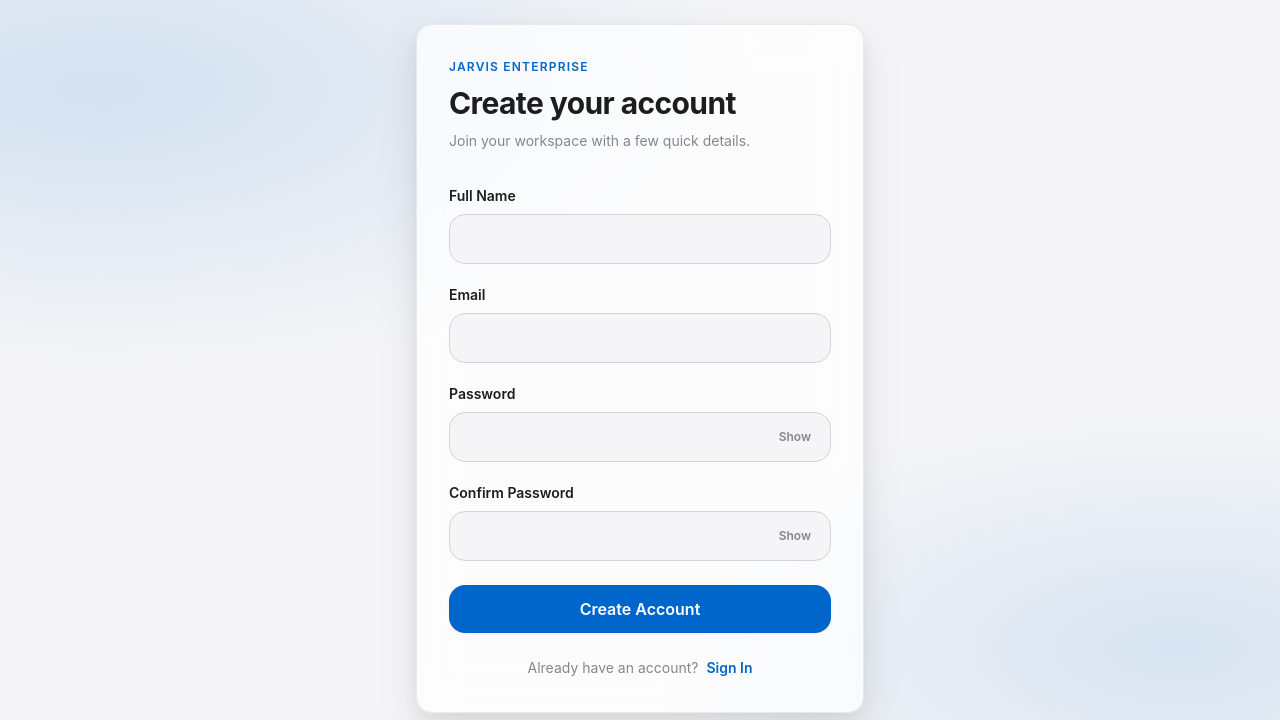
Test: SignupComponent › shows a validation message when the password is too short
Type "Jane Doe" into the field with id "fullName".
click(640, 239); type("Jane Doe")  # box [449,214,831,264]
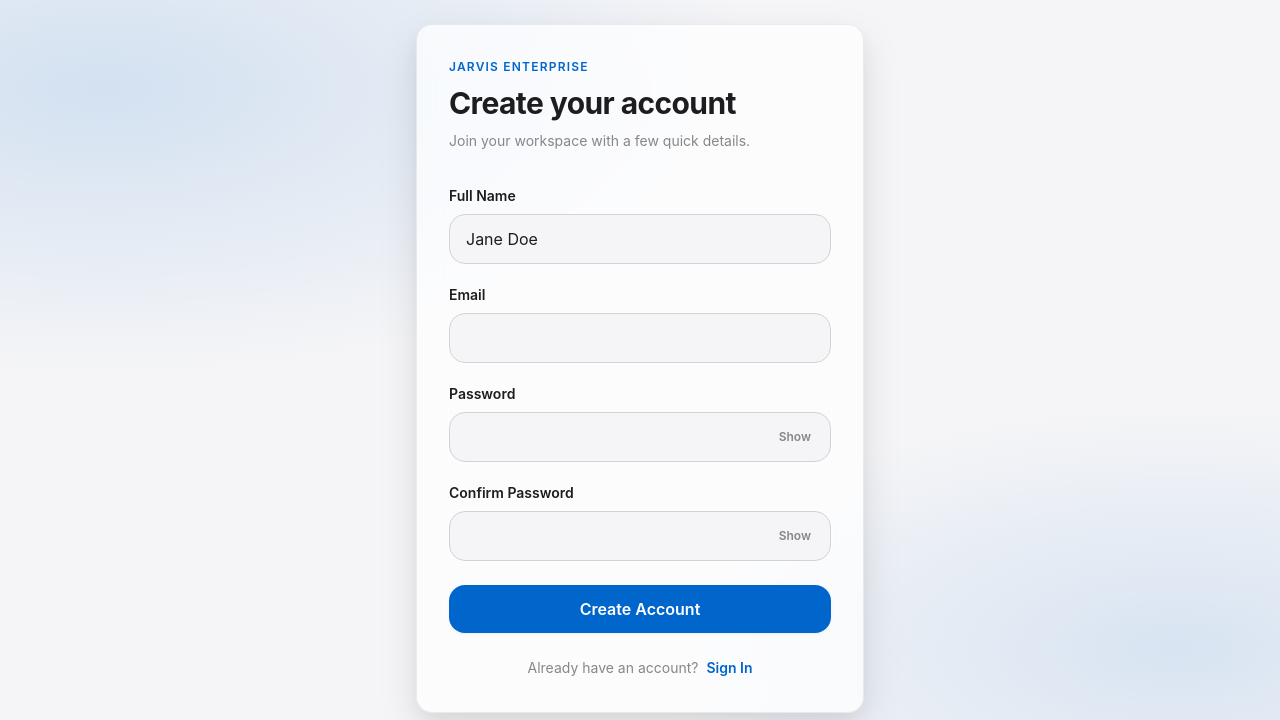
Type "jane.doe@example.com" into the field with id "email".
click(640, 338); type("jane.doe@example.com")  # box [449,313,831,363]
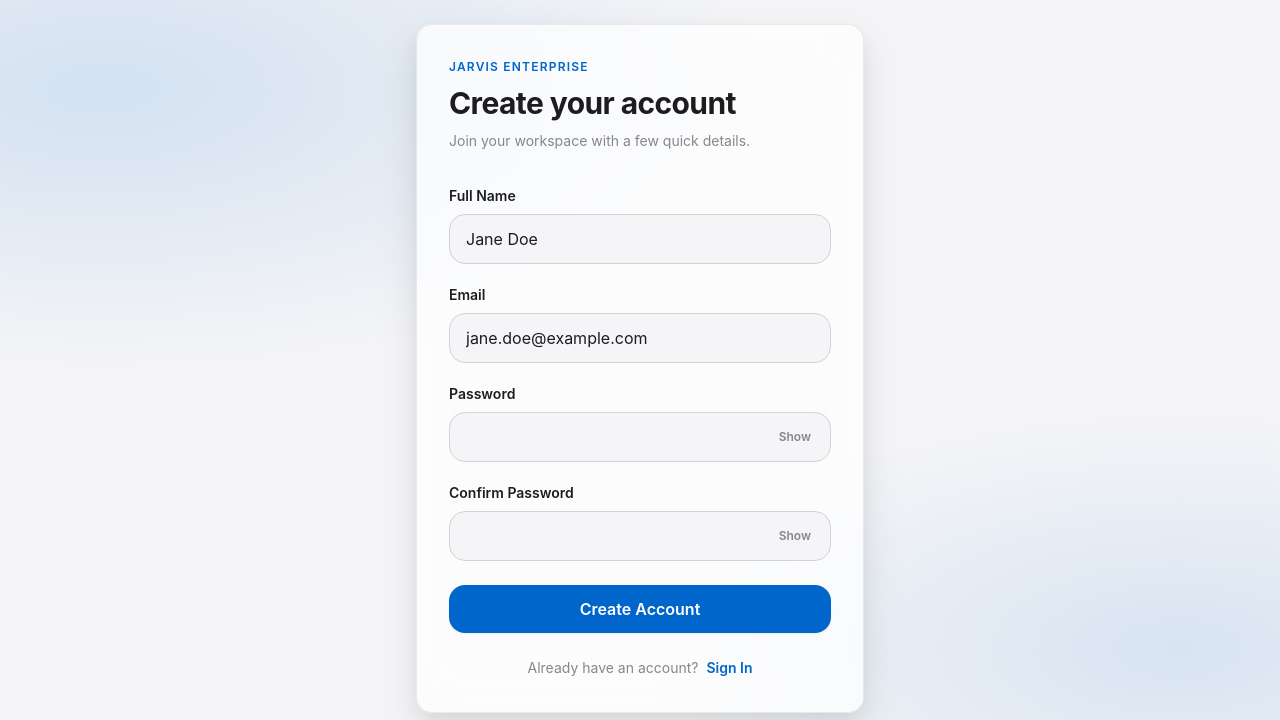
Type "short" into the password field labelled "Password".
click(640, 437); type("short")  # box [449,412,831,462]
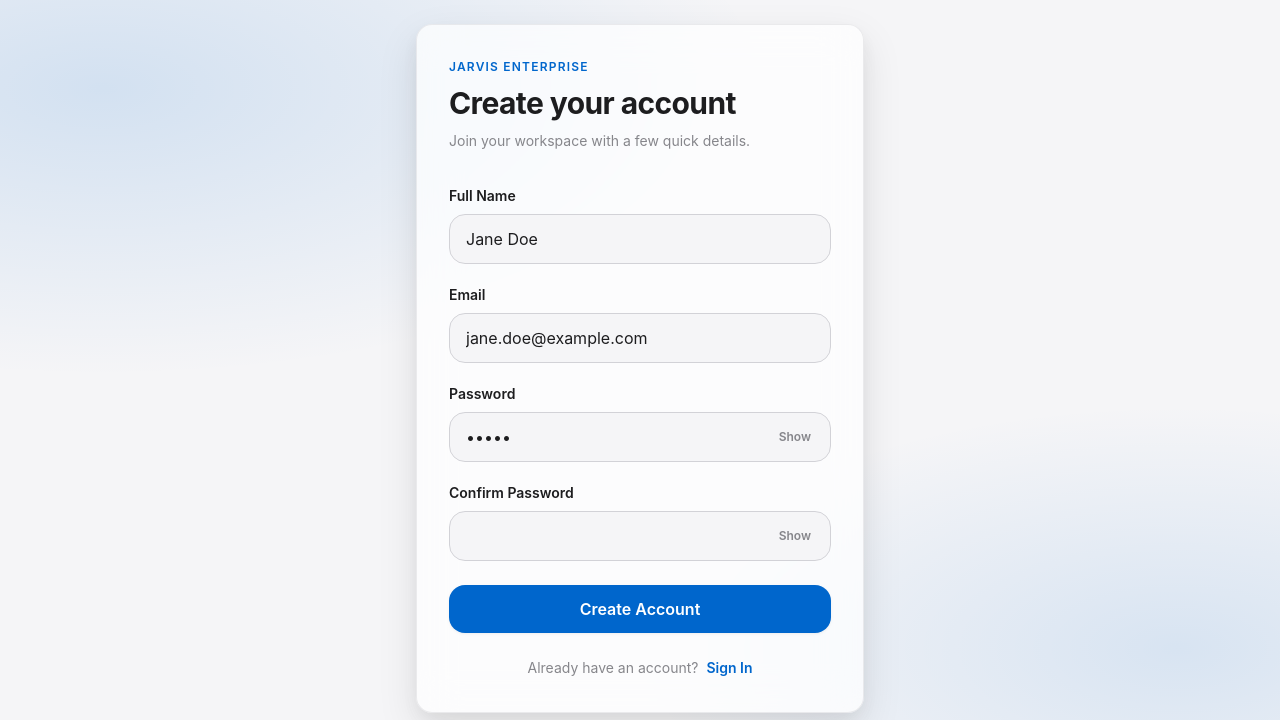
Type "short" into the password field with id "confirmPassword".
click(640, 536); type("short")  # box [449,511,831,561]
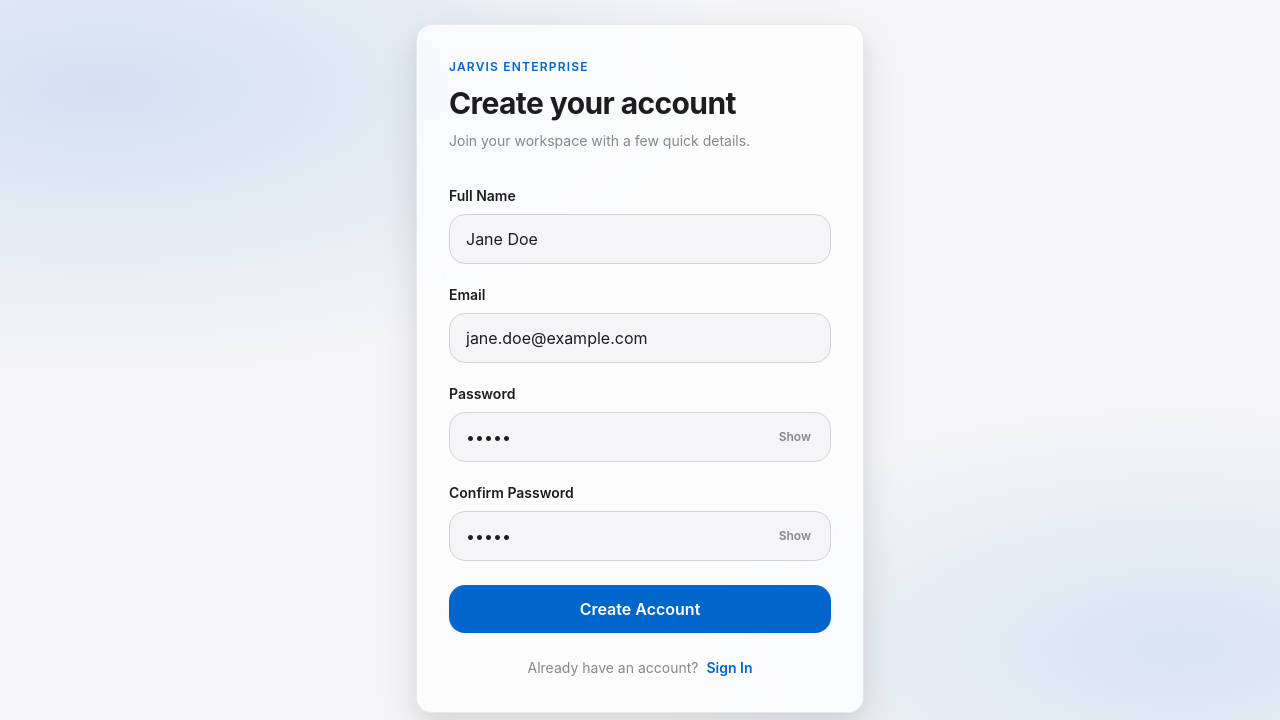
Click the submit button.
click(640, 609)  # box [449,585,831,633]
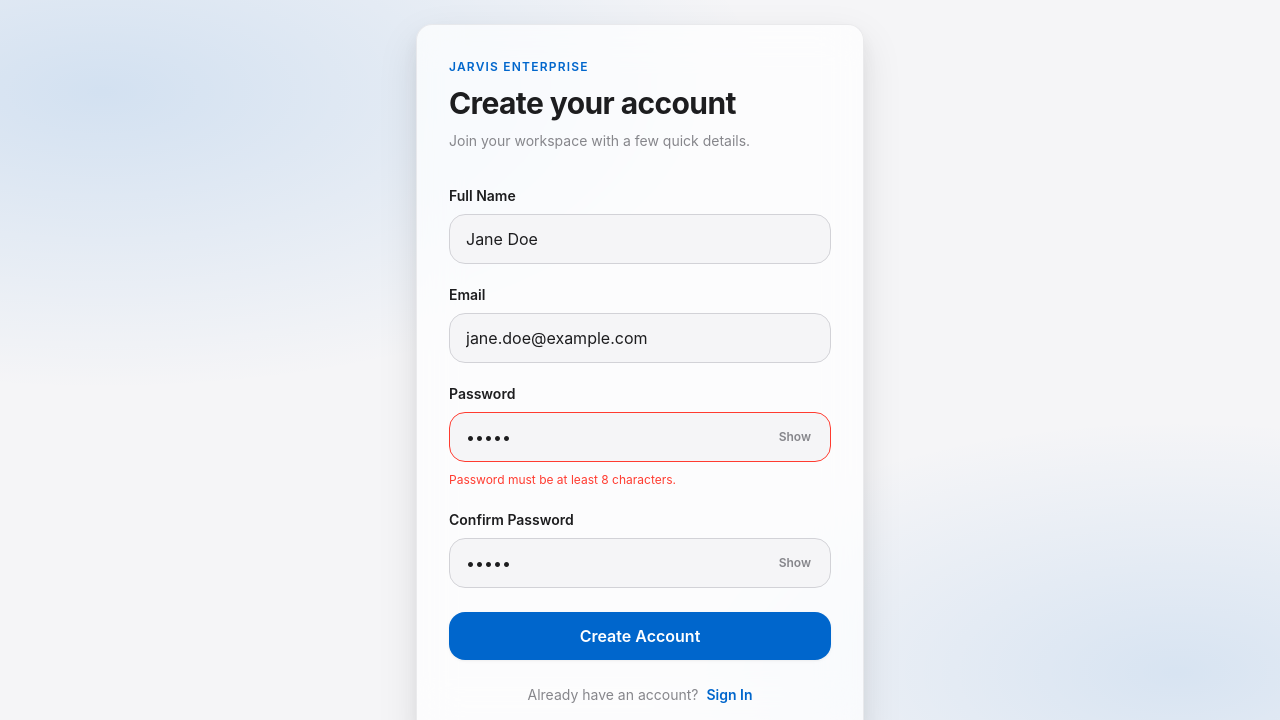
expect the message "Password must be at least 8 characters." is shown: met, box [449,472,676,487]
